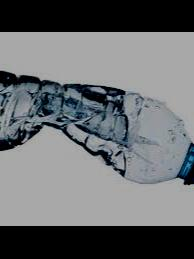Plastic: (0, 68, 193, 192)
